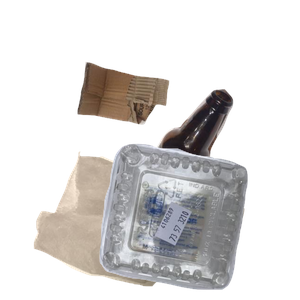cardboard: (75, 59, 237, 176)
glass: (130, 87, 300, 267)
plastic: (97, 141, 300, 300)
trash: (31, 149, 268, 300)
